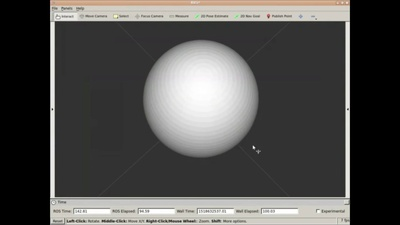mira_robot: (144, 40, 260, 158)
